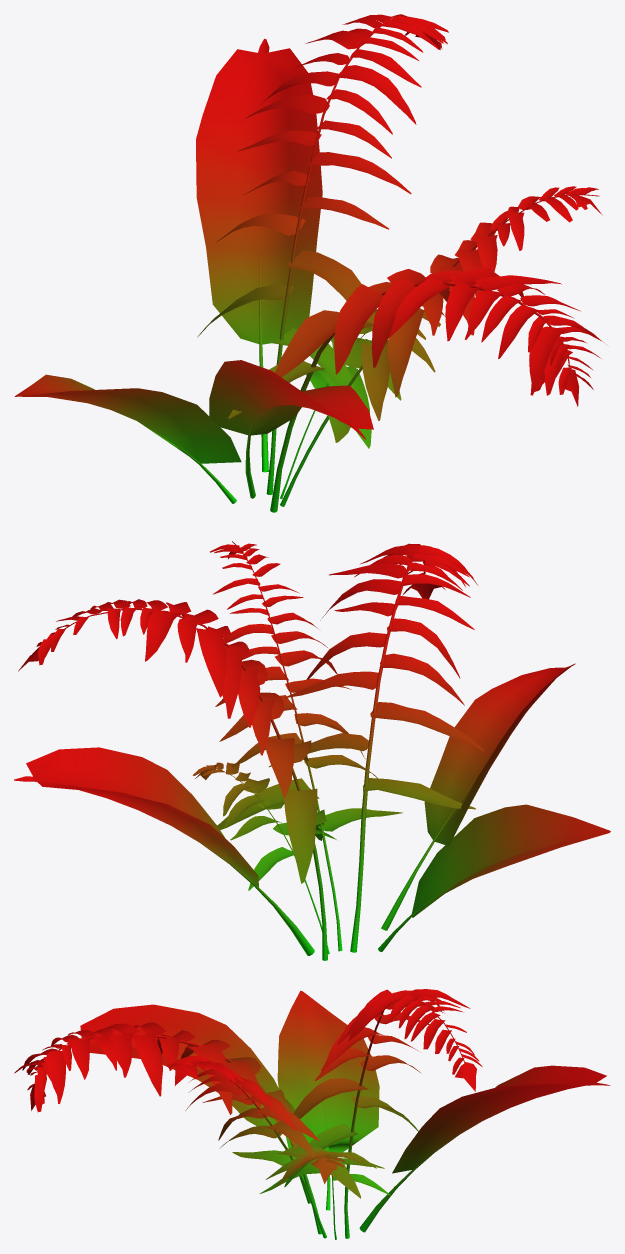
Rendered from Var3_LOD0.fbx.
3 renders of one model, top to bottom at view 1: azimuth 30°, elevation 25°; view 2: azimuth 150°, elevation 25°; view 3: azimuth 270°, elevation 25°, orthographic. The views are drawn at different scales.
Visible parts, largest first — view 1: _wlpu_Var3_LOD0; view 2: _wlpu_Var3_LOD0; view 3: _wlpu_Var3_LOD0.
Part boxes in pixels (box(x1,y1,x2,y2)): _wlpu_Var3_LOD0: box(14, 14, 606, 512); _wlpu_Var3_LOD0: box(14, 541, 610, 960); _wlpu_Var3_LOD0: box(14, 989, 610, 1239).
Size of the model in its own units: 31.74 by 21.94 by 40.3.
